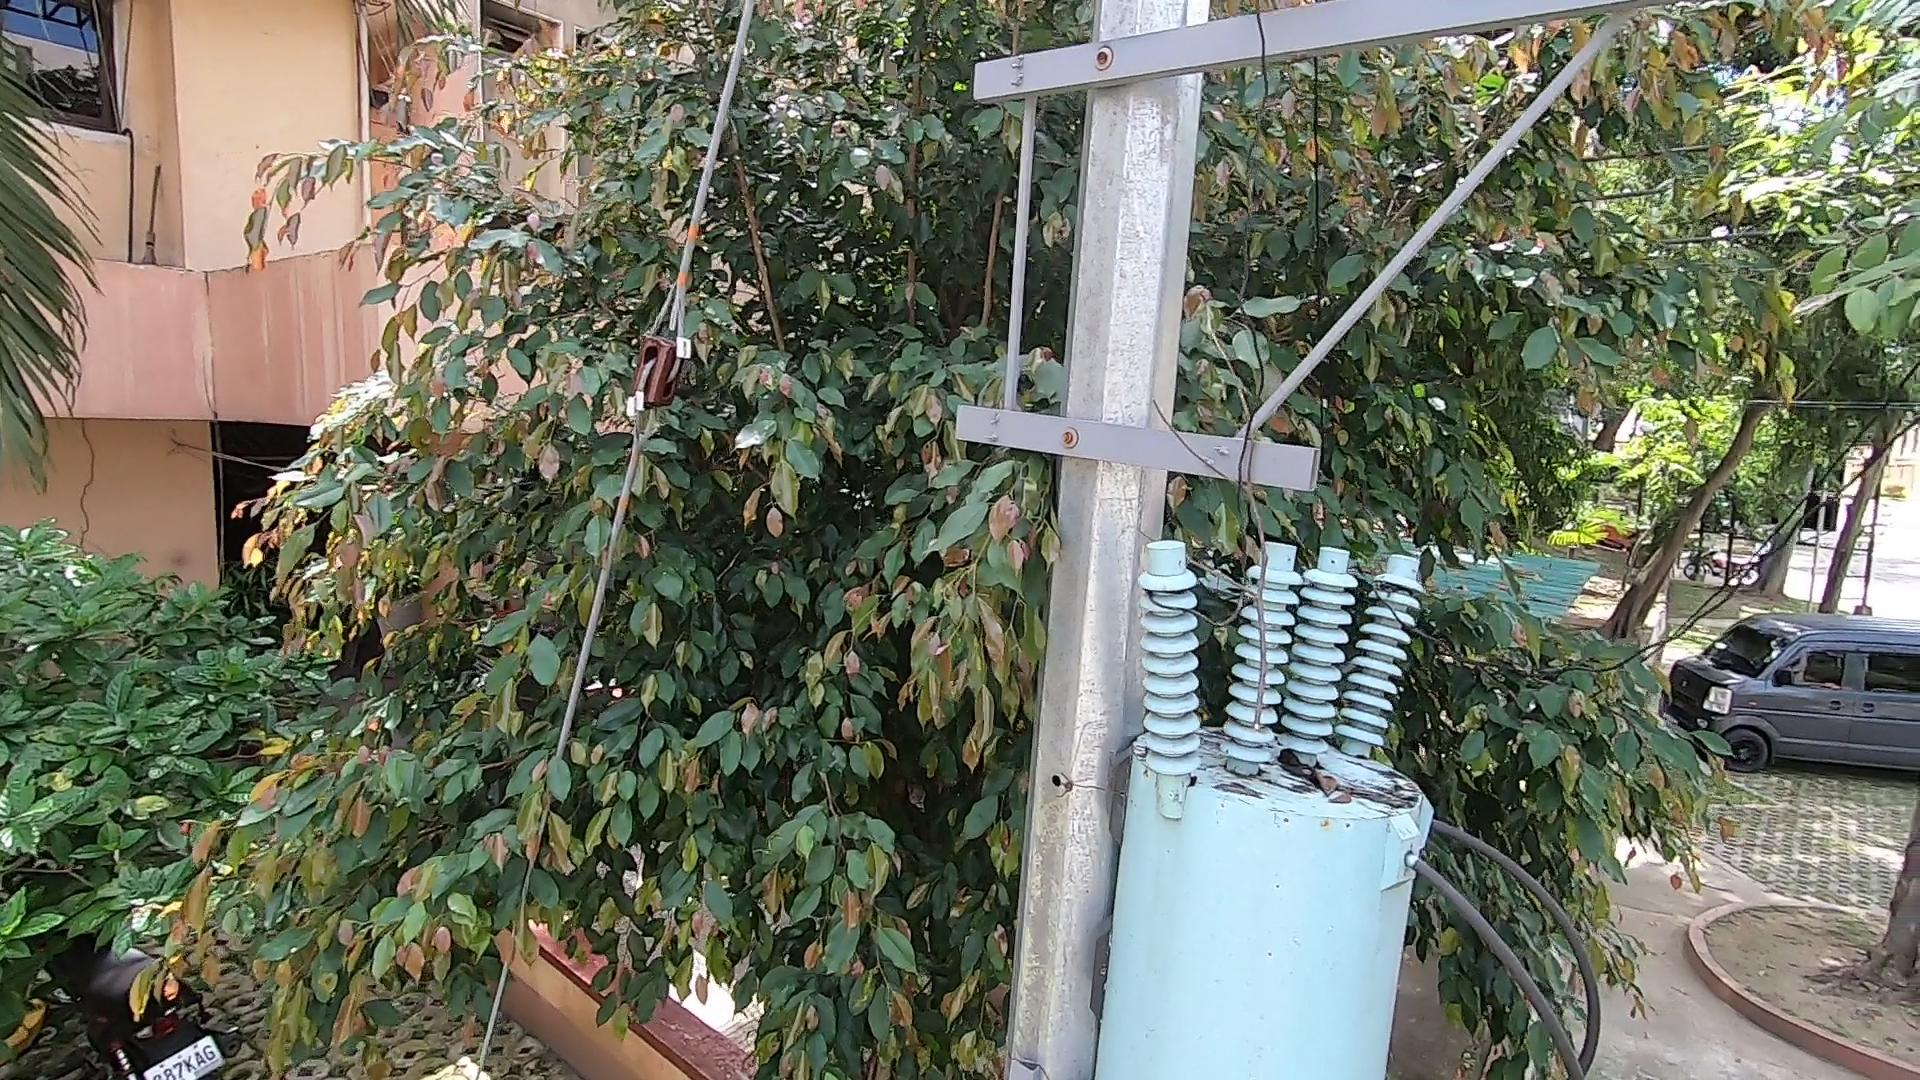leaf: (1276, 737, 1354, 807)
tree branch: (1142, 310, 1323, 735)
